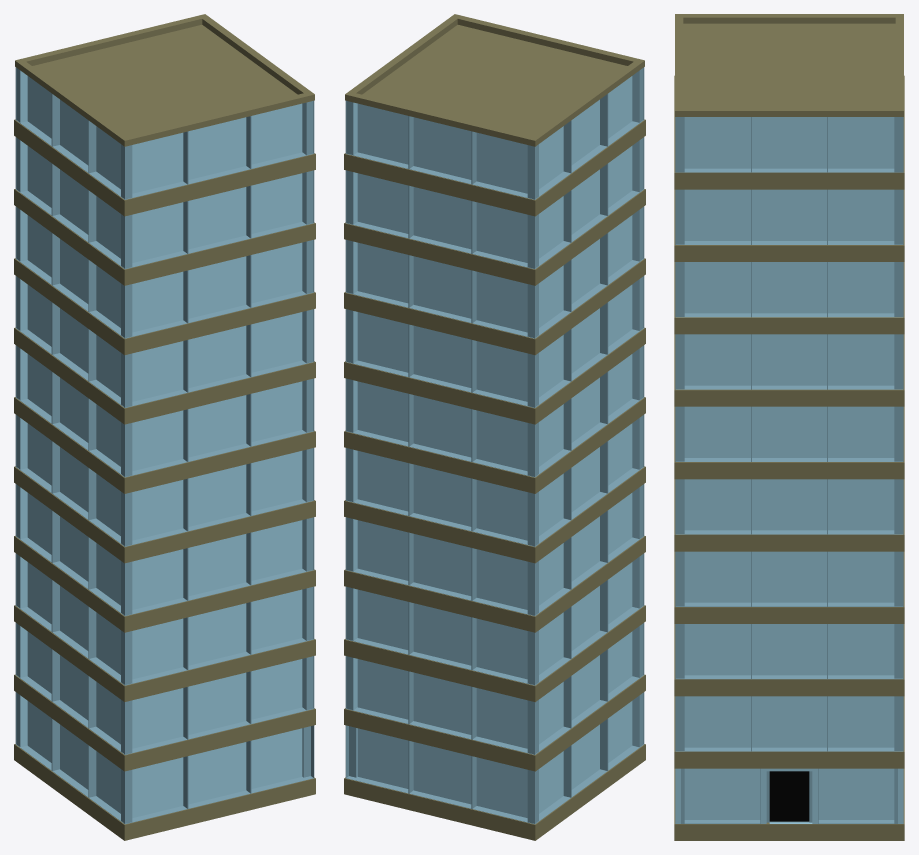
File: building4.fbx
The picture shows the model from 3 angles, left to right: view 1: azimuth 30°, elevation 25°; view 2: azimuth 150°, elevation 25°; view 3: azimuth 270°, elevation 25°; orthographic projection. The views are drawn at different scales.
Parts seen in each view (by area): view 1: building_006; view 2: building_006; view 3: building_006.
Part boxes in pixels (x1,y1,x2,y2): building_006: [14, 14, 315, 840]; building_006: [344, 14, 645, 840]; building_006: [674, 14, 904, 840].
Bounding box in the file's own units: 10.1 × 35.3 × 10.1.
